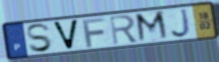F: (81, 16, 108, 48)
J: (170, 7, 193, 39)
M: (134, 10, 171, 44)
R: (108, 14, 140, 47)
S: (25, 22, 55, 54)
V: (51, 18, 81, 51)
